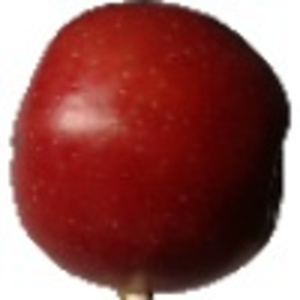maçã braeburn: (10, 1, 293, 292)
